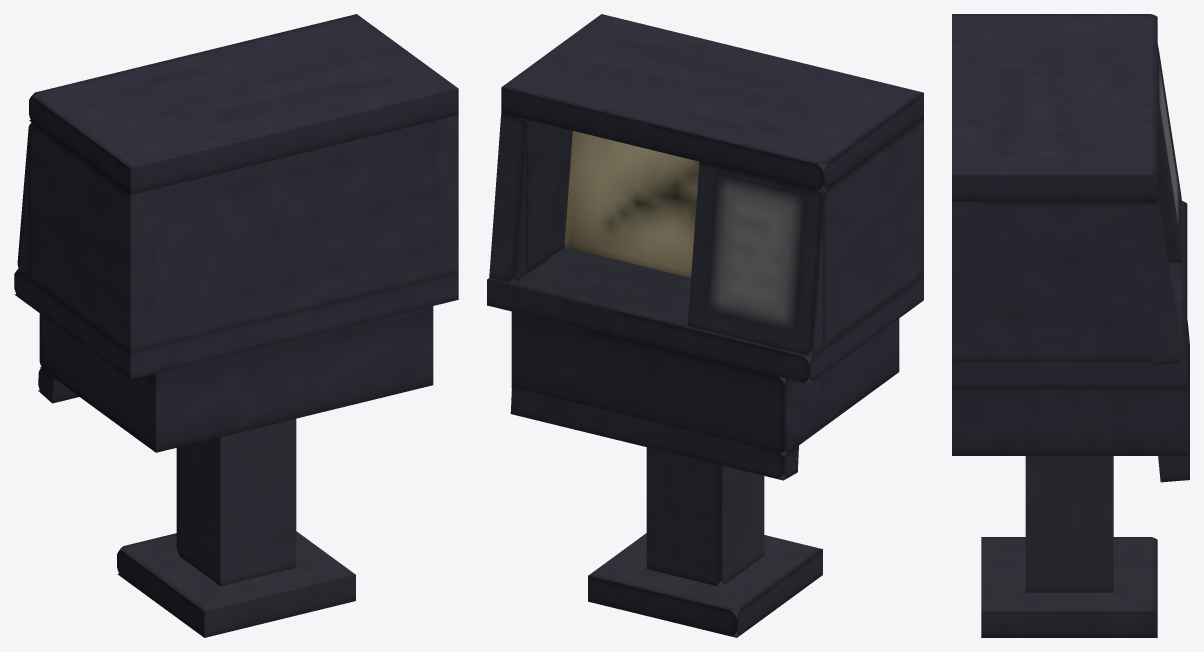
File: news_stand1.obj
3 views of the same model, side by side, from view 1: azimuth 30°, elevation 25°; view 2: azimuth 150°, elevation 25°; view 3: azimuth 270°, elevation 25° (orthographic). The views are drawn at different scales.
Parts seen in each view (by area): view 1: baseModel6, baseModel5, baseModel11, baseModel3, baseModel1, baseModel0, baseModel2, baseModel4, baseModel8, baseModel10; view 2: baseModel6, baseModel11, baseModel8, baseModel2, baseModel3, baseModel9, baseModel1, baseModel0, baseModel10, baseModel4, baseModel7; view 3: baseModel6, baseModel4, baseModel11, baseModel0, baseModel1, baseModel2, baseModel7, baseModel8, baseModel10.
Part boxes in pixels (x1,y1,x2,y2): baseModel6: (29, 14, 458, 194); baseModel5: (156, 121, 433, 346); baseModel11: (39, 306, 433, 452); baseModel3: (28, 122, 155, 353); baseModel1: (176, 418, 296, 586); baseModel0: (117, 531, 355, 637); baseModel2: (14, 268, 458, 379); baseModel4: (433, 115, 458, 279); baseModel8: (17, 129, 31, 280); baseModel10: (38, 368, 78, 403); baseModel6: (501, 14, 923, 191); baseModel11: (511, 311, 899, 455); baseModel8: (687, 163, 826, 356); baseModel2: (487, 247, 923, 383); baseModel3: (699, 119, 923, 344); baseModel9: (564, 131, 699, 277); baseModel1: (646, 447, 764, 586); baseModel0: (588, 533, 822, 637); baseModel10: (510, 387, 798, 480); baseModel4: (501, 113, 572, 272); baseModel7: (489, 115, 528, 281); baseModel6: (952, 14, 1157, 201); baseModel4: (952, 202, 1157, 361); baseModel11: (952, 388, 1187, 455); baseModel0: (981, 537, 1157, 637); baseModel1: (1025, 456, 1113, 592); baseModel2: (952, 201, 1187, 388); baseModel7: (1128, 195, 1181, 365); baseModel8: (1157, 46, 1181, 262); baseModel10: (1158, 320, 1189, 482).
Size of the model in its own units: 0.8131 by 1.19 by 0.5058.
Materials: 1 (1 with a texture image).
